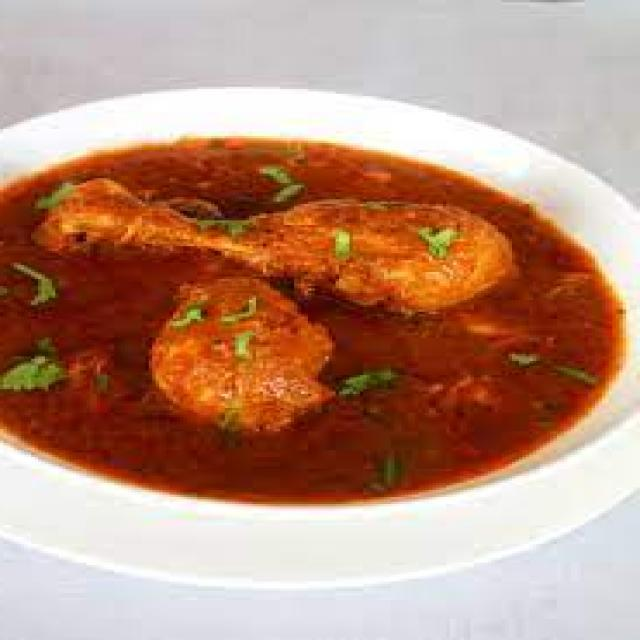Chicken Curry: (3, 129, 616, 502)
